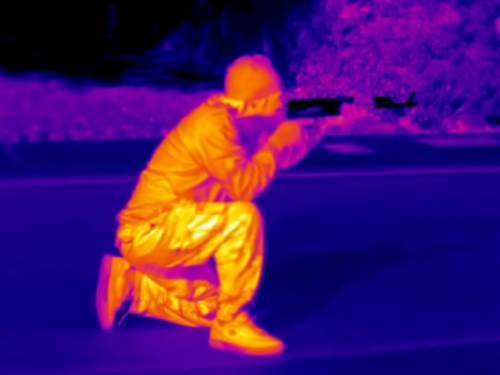gun: (238, 91, 428, 135)
person: (88, 45, 295, 363)
